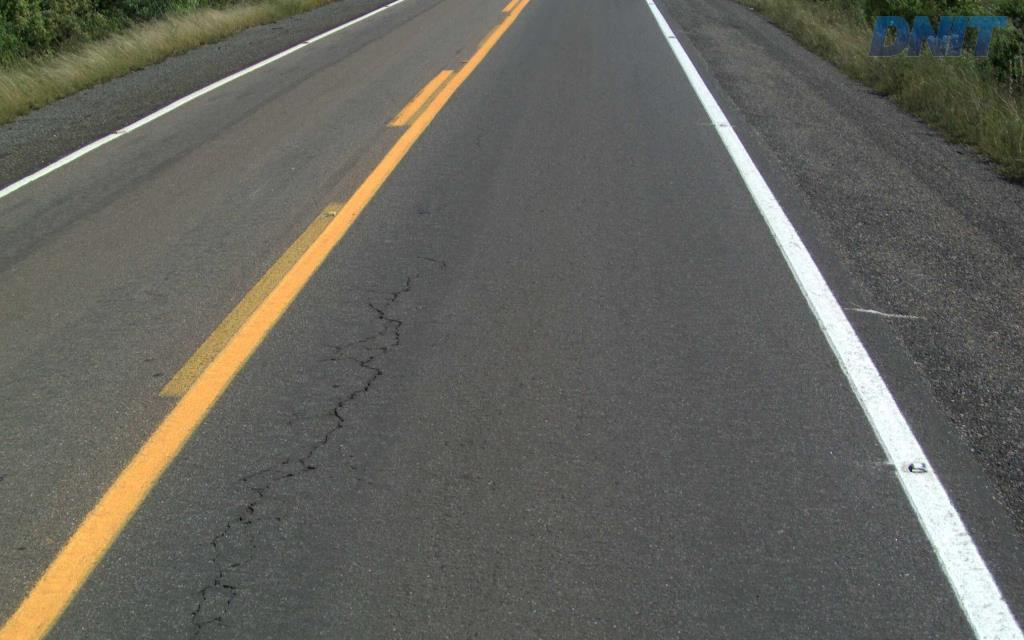crack: (320, 355, 382, 445), (188, 603, 230, 639)
